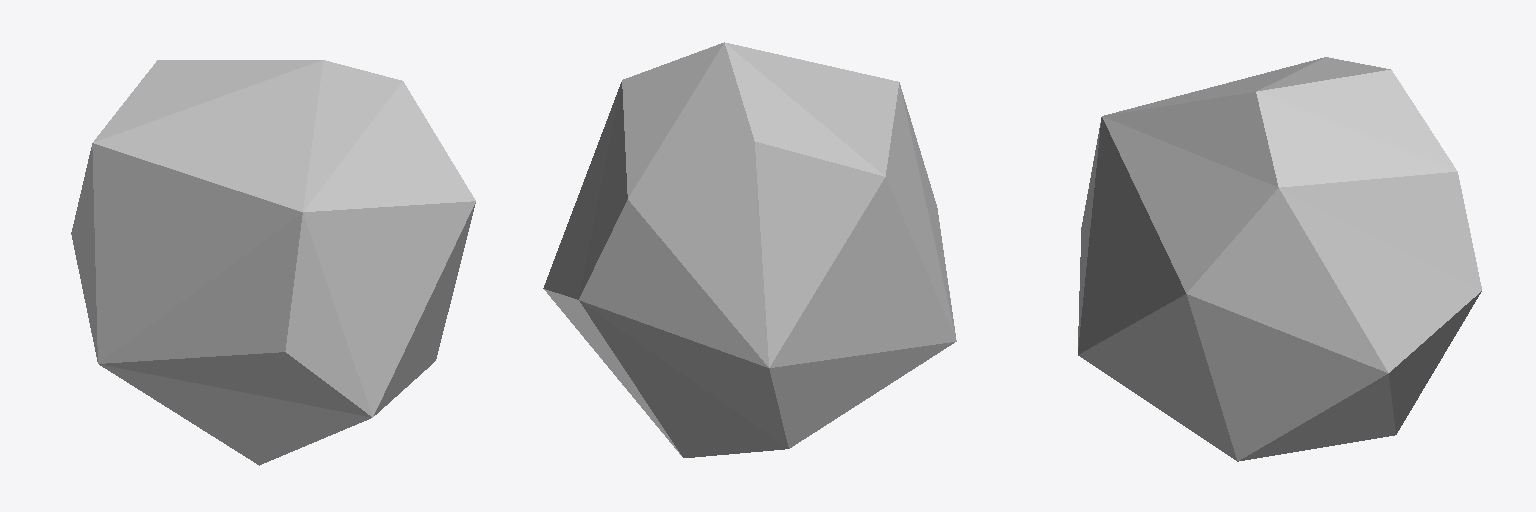
The model's file is 1_Power Pellet.obj.
3 renders of one model, left to right at view 1: azimuth 30°, elevation 25°; view 2: azimuth 150°, elevation 25°; view 3: azimuth 270°, elevation 25°, orthographic.
Parts seen in each view (by area): view 1: Power_Pellet.000_Crystal4_Icosphere.002; view 2: Power_Pellet.000_Crystal4_Icosphere.002; view 3: Power_Pellet.000_Crystal4_Icosphere.002.
Boxes of the visible parts, <box> form: Power_Pellet.000_Crystal4_Icosphere.002: <box>71,60,475,465</box>; Power_Pellet.000_Crystal4_Icosphere.002: <box>543,42,956,457</box>; Power_Pellet.000_Crystal4_Icosphere.002: <box>1078,57,1481,461</box>.
Bounding box in the file's own units: 0.475 × 0.501 × 0.4801.